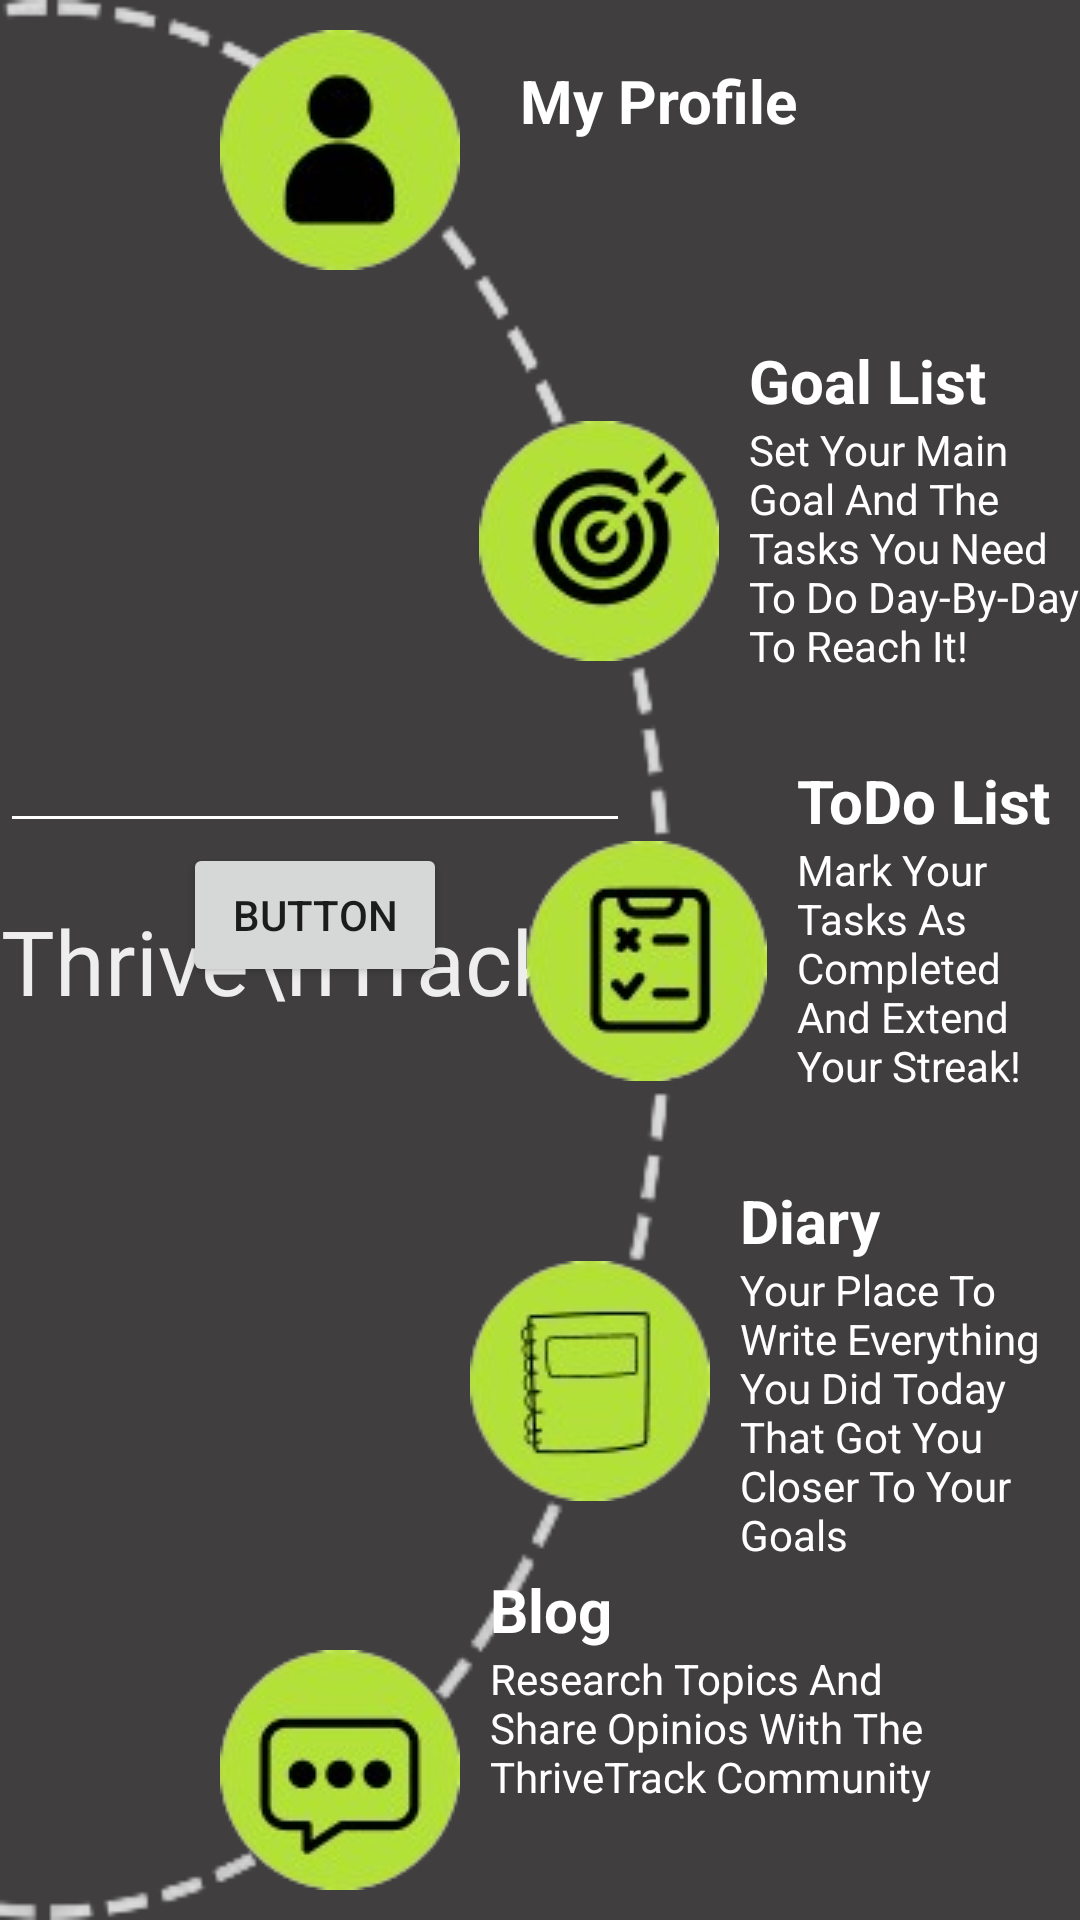

Icons on this 1080px×1920px Android screen, each with its box as (x1, y1, x2, y2):
goals: (479, 421, 719, 661)
